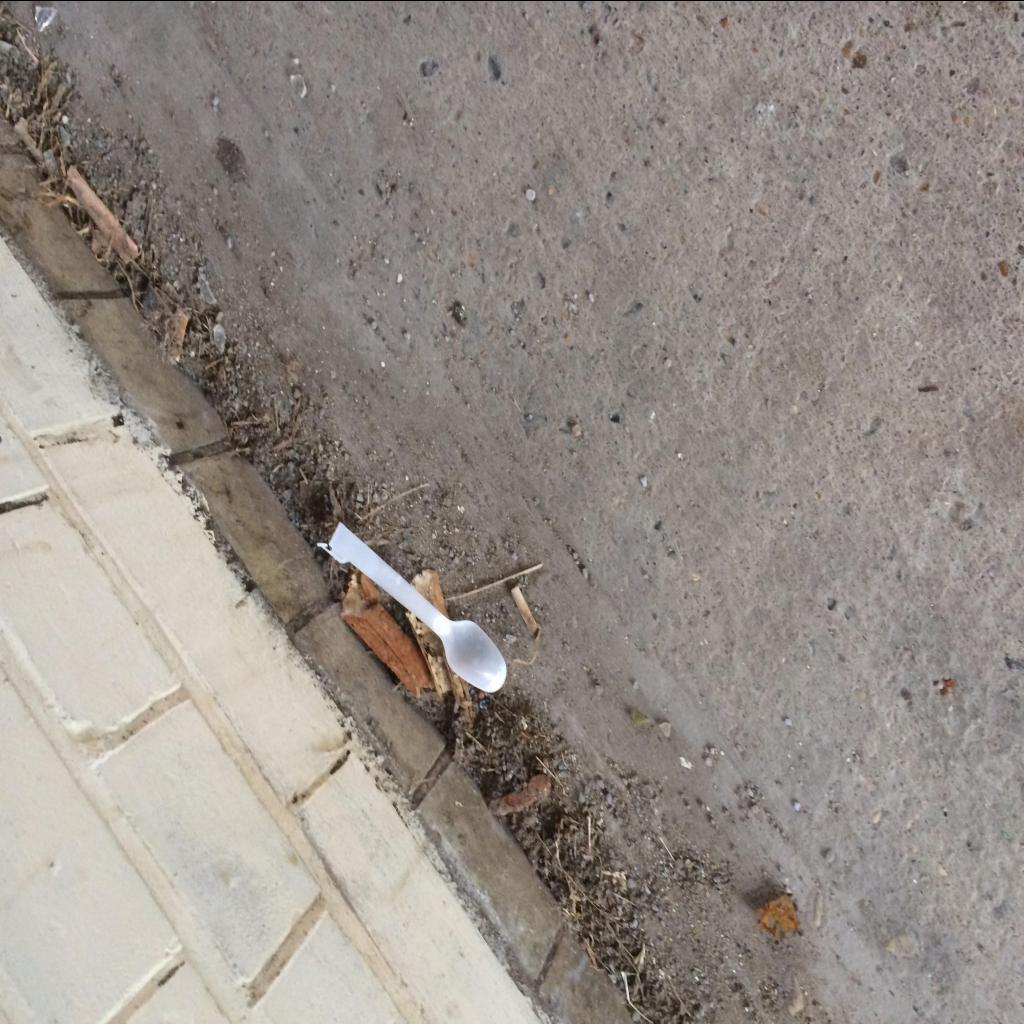Cigarette: (512, 584, 538, 636), (169, 310, 189, 360)
